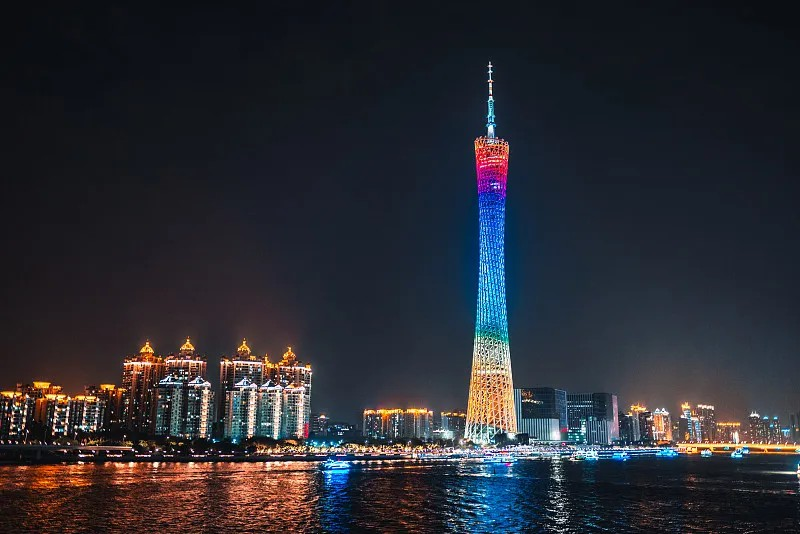Canton: (462, 60, 521, 441)
